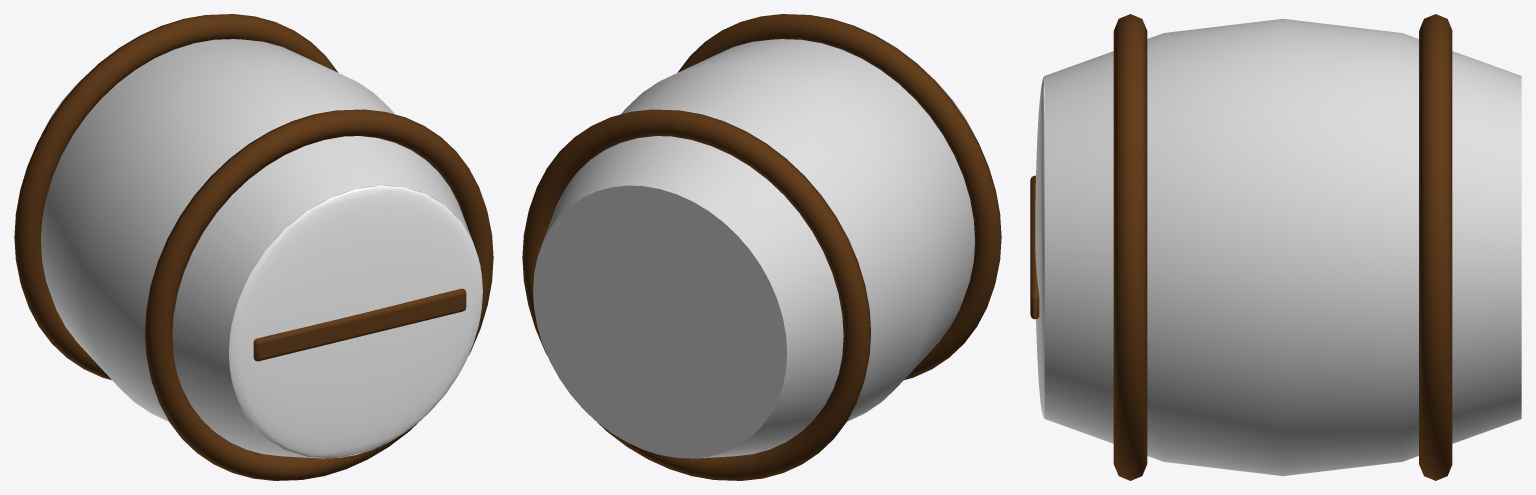
Rendered from sud.glb.
The picture shows the model from 3 angles, left to right: view 1: azimuth 30°, elevation 25°; view 2: azimuth 150°, elevation 25°; view 3: azimuth 270°, elevation 25°; orthographic projection. The views are drawn at different scales.
Visible parts, largest first — view 1: sud_m, sud_dno, sud_obruc_-0.32, sud_obruc_0.32, sud_kriz_a; view 2: sud_m, sud_obruc_0.32, sud_obruc_-0.32; view 3: sud_m, sud_obruc_-0.32, sud_obruc_0.32, sud_dno, sud_kriz_a.
Boxes of the visible parts, x1,y1,x2,y2 form: sud_m: (41,39,482,458); sud_dno: (229,185,482,458); sud_obruc_-0.32: (145,109,493,480); sud_obruc_0.32: (14,14,338,379); sud_kriz_a: (253,288,466,361); sud_m: (533,39,974,458); sud_obruc_0.32: (522,109,870,480); sud_obruc_-0.32: (677,14,1001,379); sud_m: (1044,18,1521,476); sud_obruc_-0.32: (1113,14,1147,480); sud_obruc_0.32: (1419,14,1452,480); sud_dno: (1035,76,1044,418); sud_kriz_a: (1030,175,1039,319).
Size of the model in its own units: 0.98 by 0.98 by 1.03.
